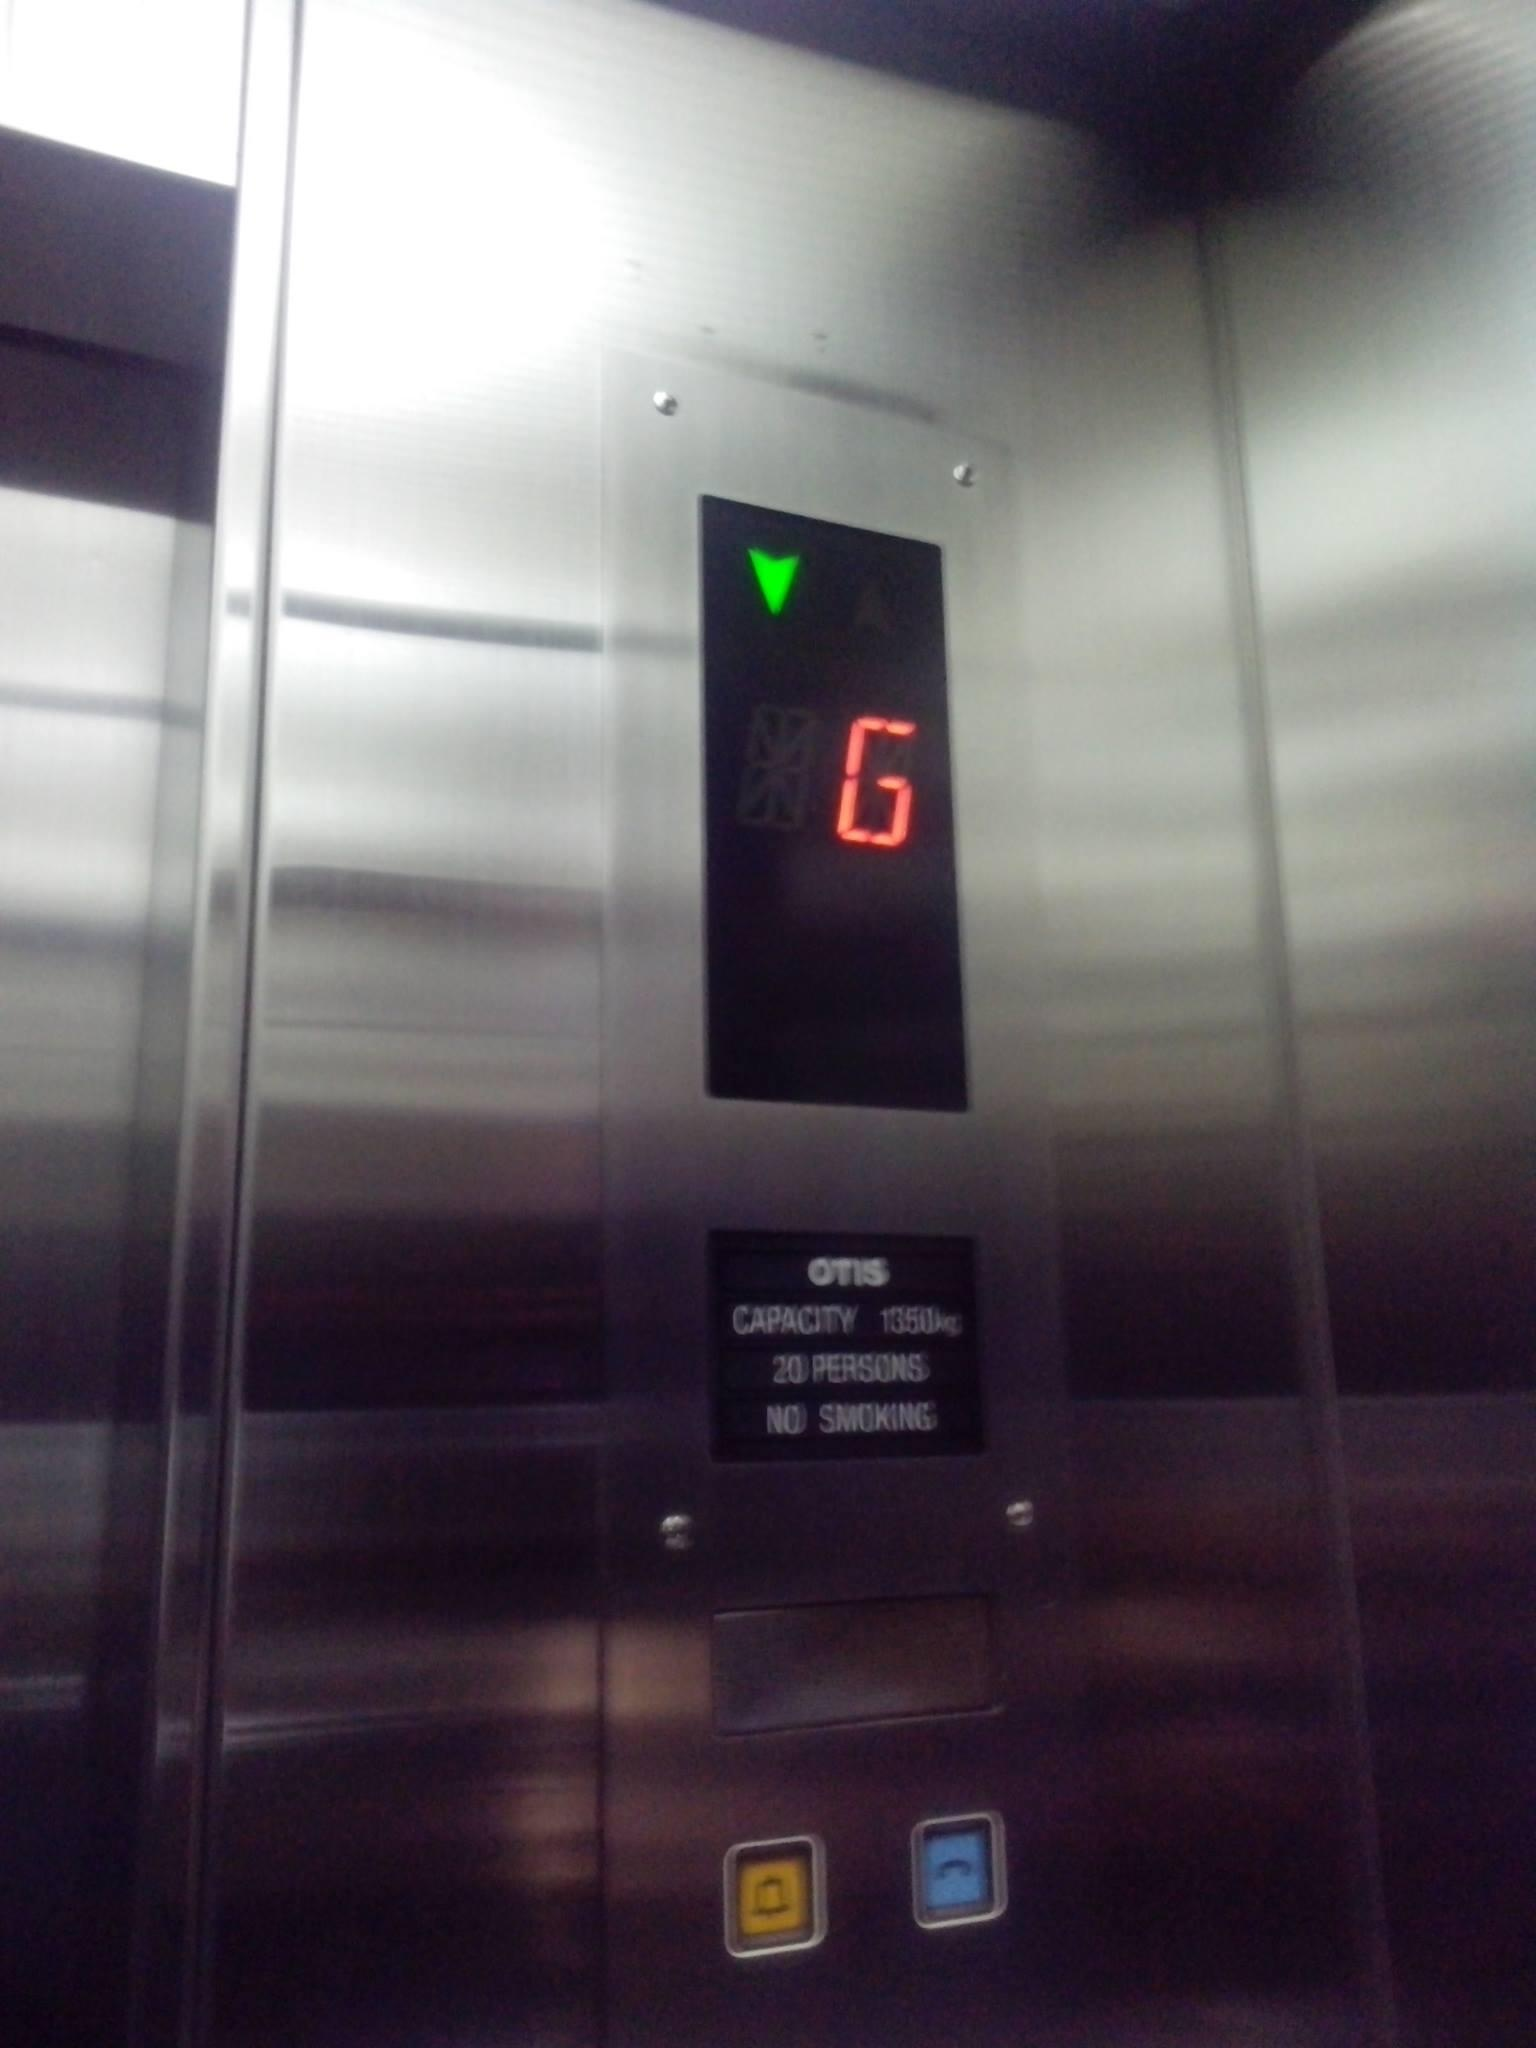alarm: (720, 1837, 821, 1959)
call: (907, 1813, 1008, 1932)
led: (679, 468, 979, 1134)
